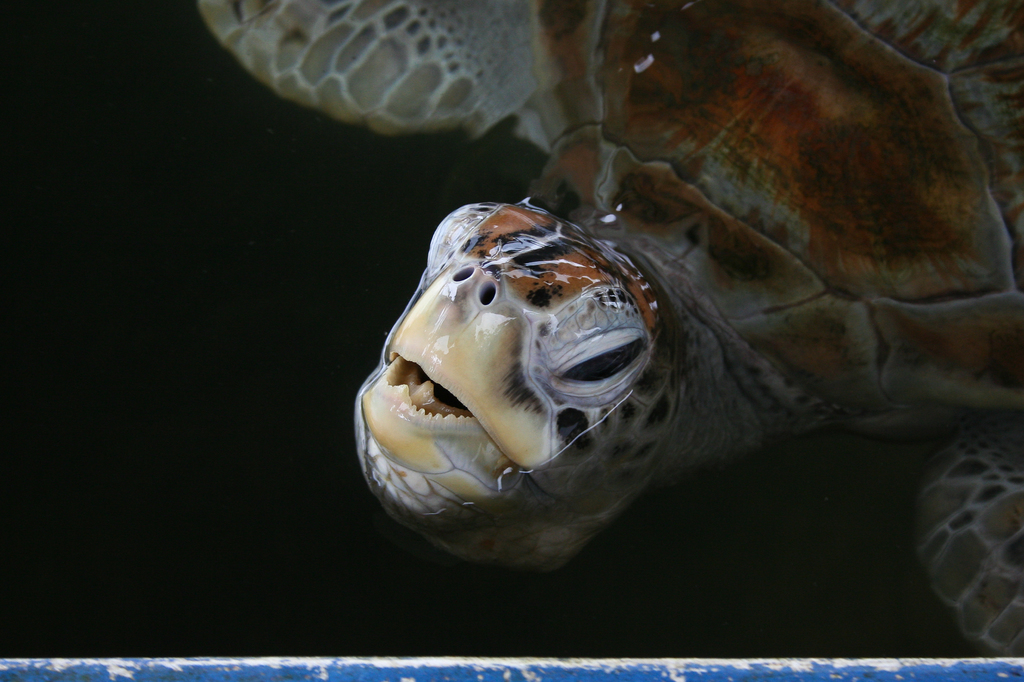Sea turtles: (193, 0, 1023, 660)
